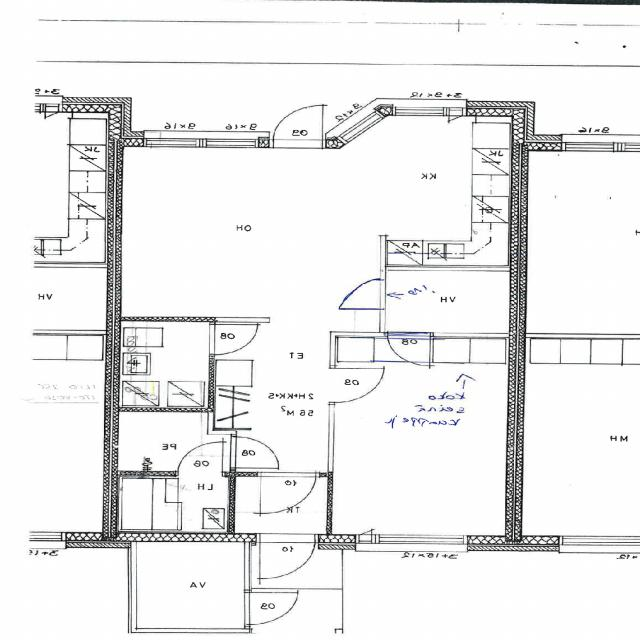door: (260, 532, 316, 582), (273, 96, 324, 148), (261, 471, 317, 516), (328, 368, 382, 402), (228, 436, 282, 468), (244, 592, 297, 624), (178, 439, 222, 477), (338, 279, 388, 309), (208, 324, 258, 354)
